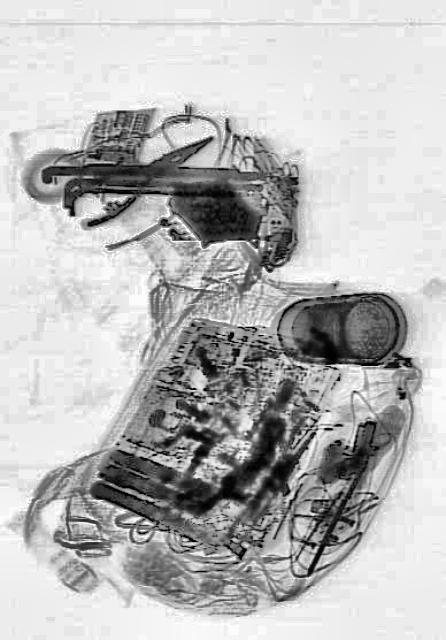Pliers: (60, 116, 220, 236)
